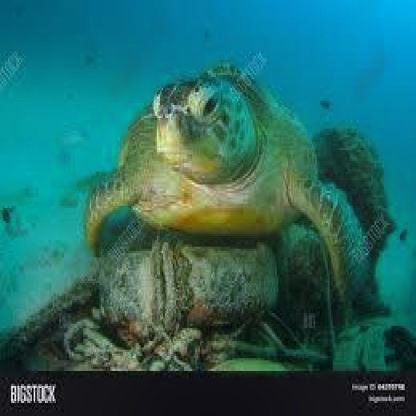tire: (120, 226, 277, 348)
